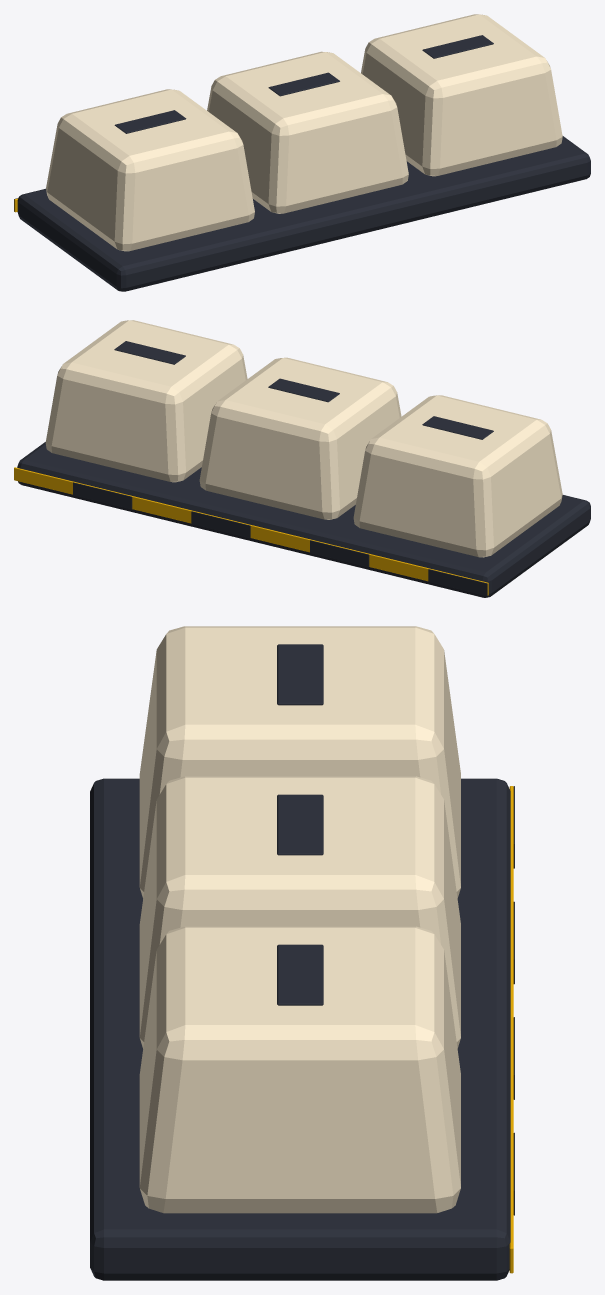
File: prop_keyboard_row.glb
3 renders of one model, top to bottom at view 1: azimuth 30°, elevation 25°; view 2: azimuth 150°, elevation 25°; view 3: azimuth 270°, elevation 25°, orthographic. The views are drawn at different scales.
Parts seen in each view (by area): view 1: PropKeyboardRow; view 2: PropKeyboardRow; view 3: PropKeyboardRow.
Boxes of the visible parts, box(x1,y1,x2,y2) form: PropKeyboardRow: box(14, 14, 590, 291); PropKeyboardRow: box(14, 320, 590, 597); PropKeyboardRow: box(90, 626, 514, 1280).
Bounding box in the file's own units: 2.34 × 0.546 × 0.909.
